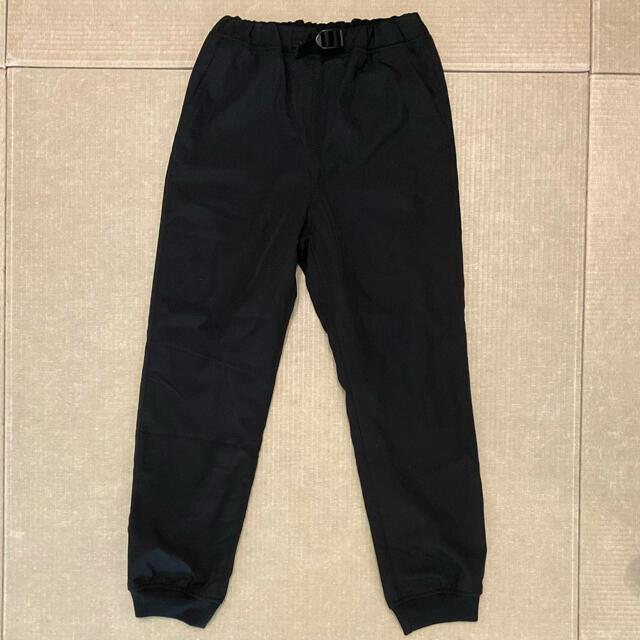long-pants: (126, 13, 488, 637)
